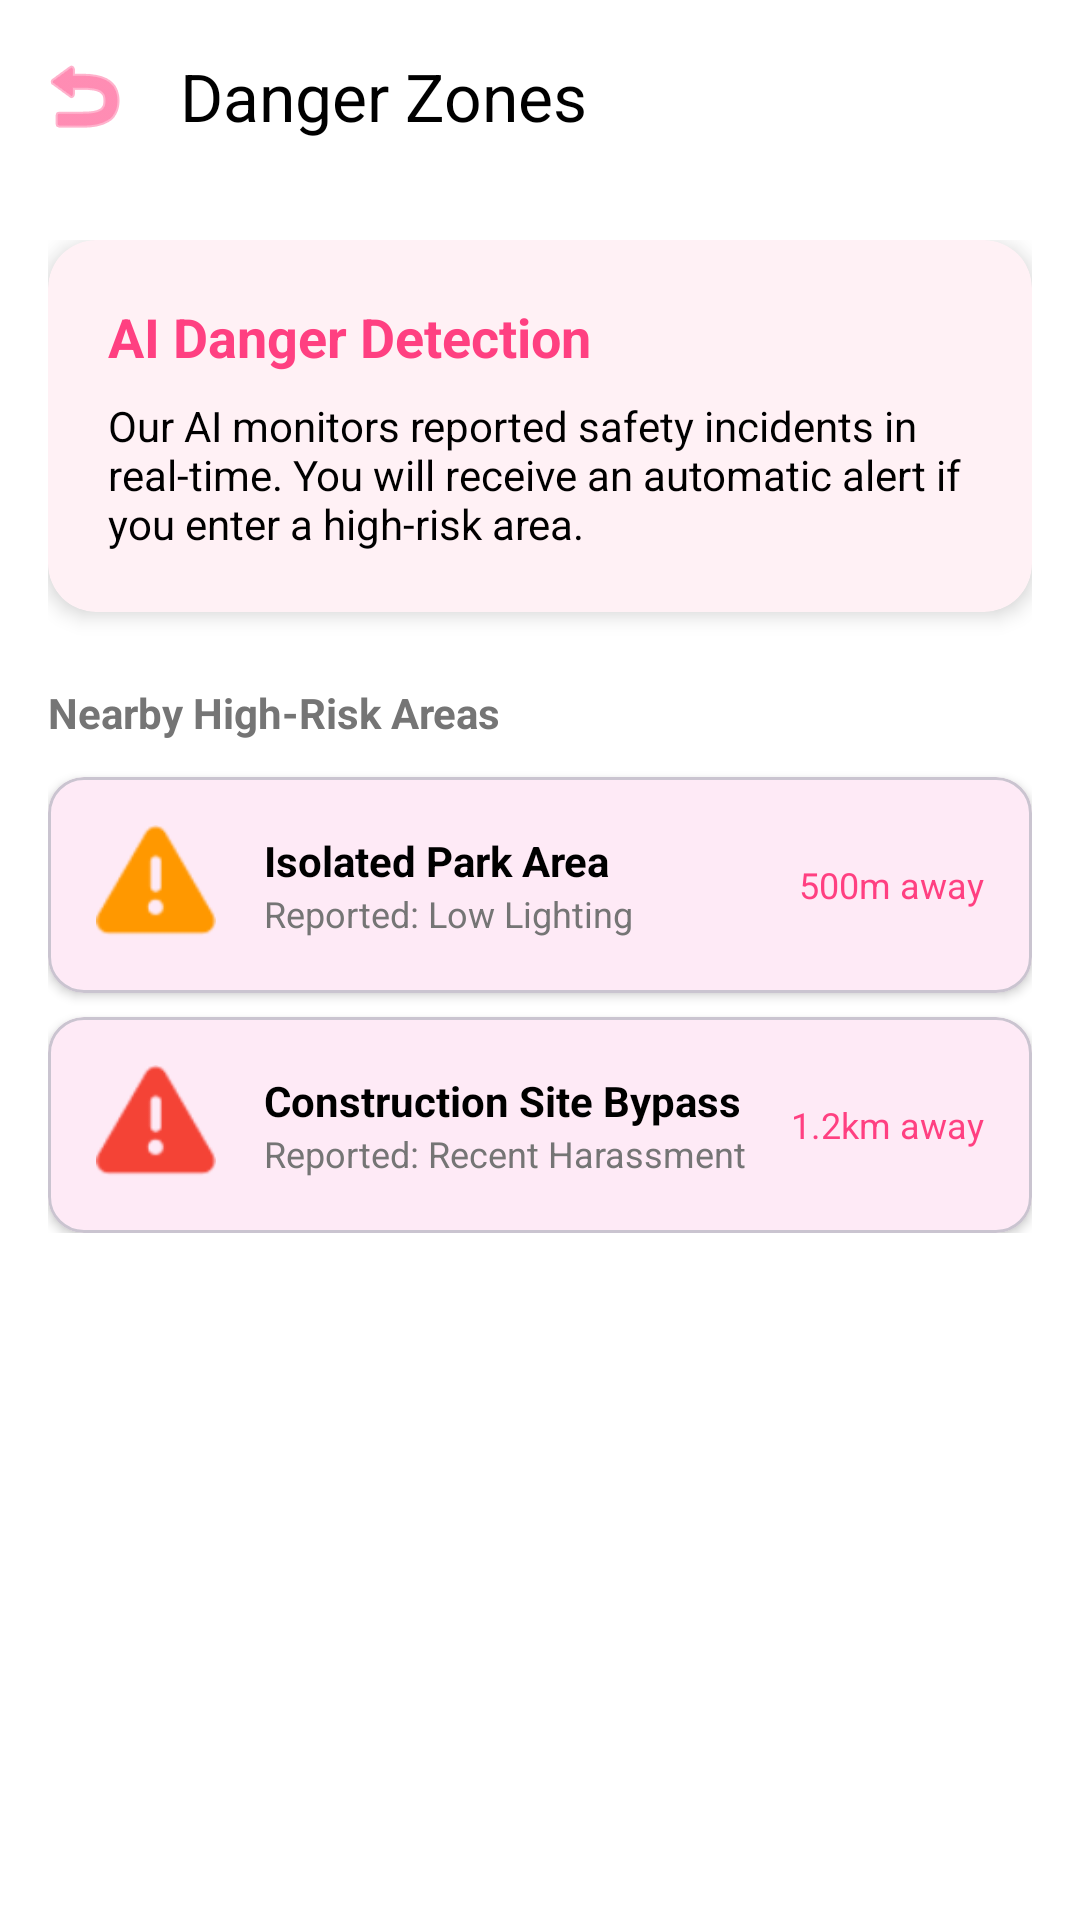

Icons on this 1080px×1920px Android screen, each with its box as (x1, y1, x2, y2):
alert: (96, 825, 216, 935), (96, 1065, 216, 1174)
